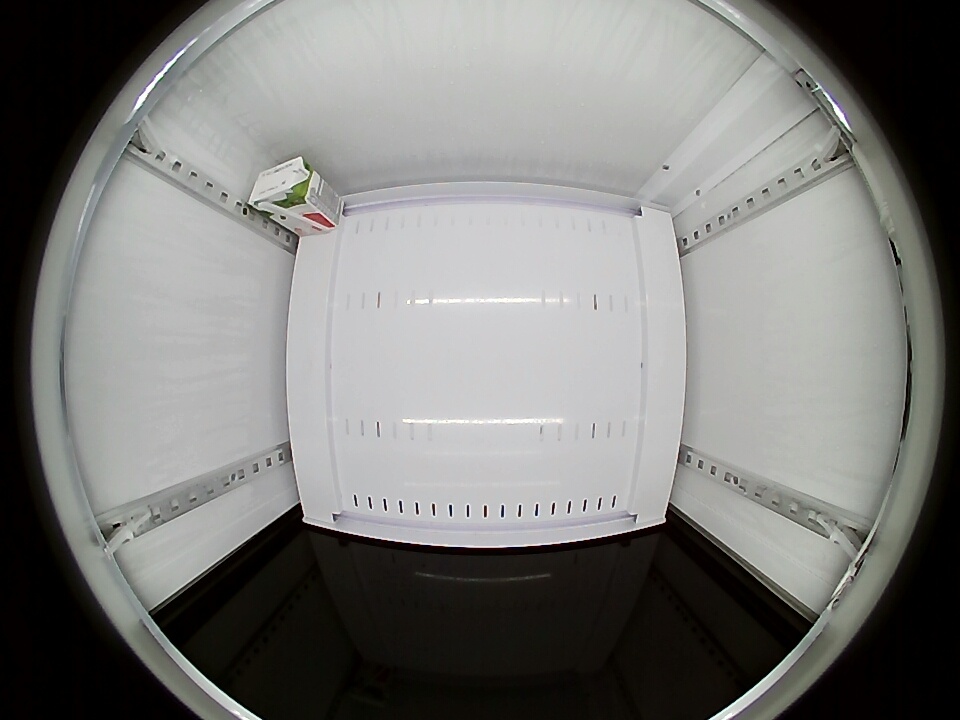mengniu: (248, 155, 318, 214)
